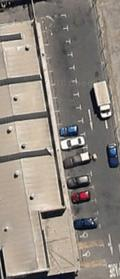parkingspot: (38, 13, 105, 245), (77, 243, 109, 265)
